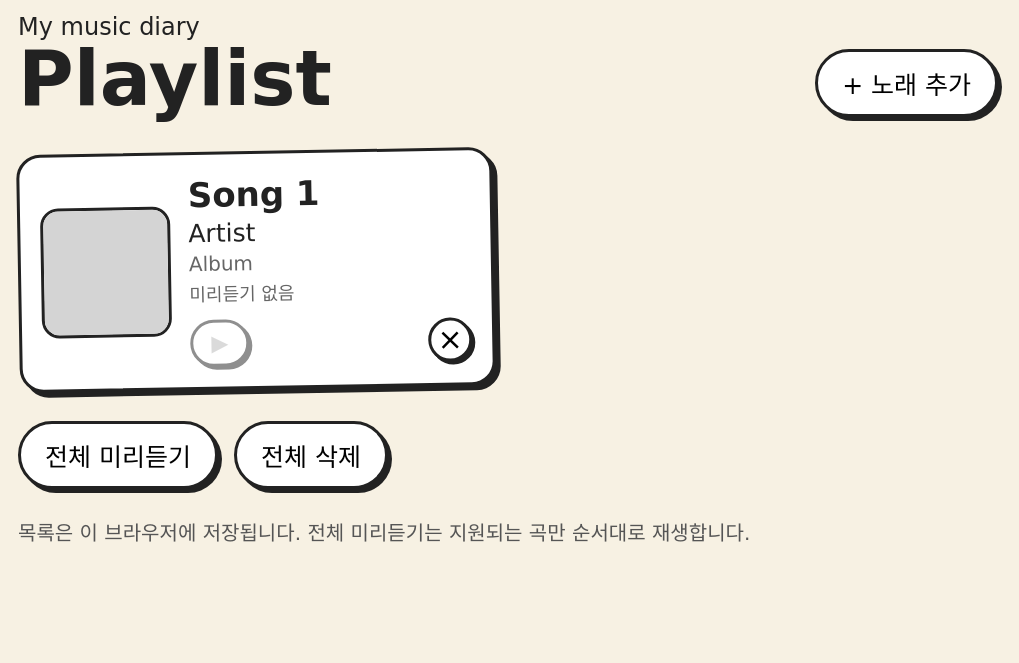
Test: no preview disables individual playback
The width and height of the screenshot is (1019, 663).
Expected: the button named "Song 1 미리듣기 없음" is disabled, top-left (190, 319), bottom-right (250, 367)
What coordinates should you click on to do the following:
click the button "전체 미리듣기"
I would click on:
 (118, 455)
Its box is top-left (18, 421), bottom-right (218, 489).
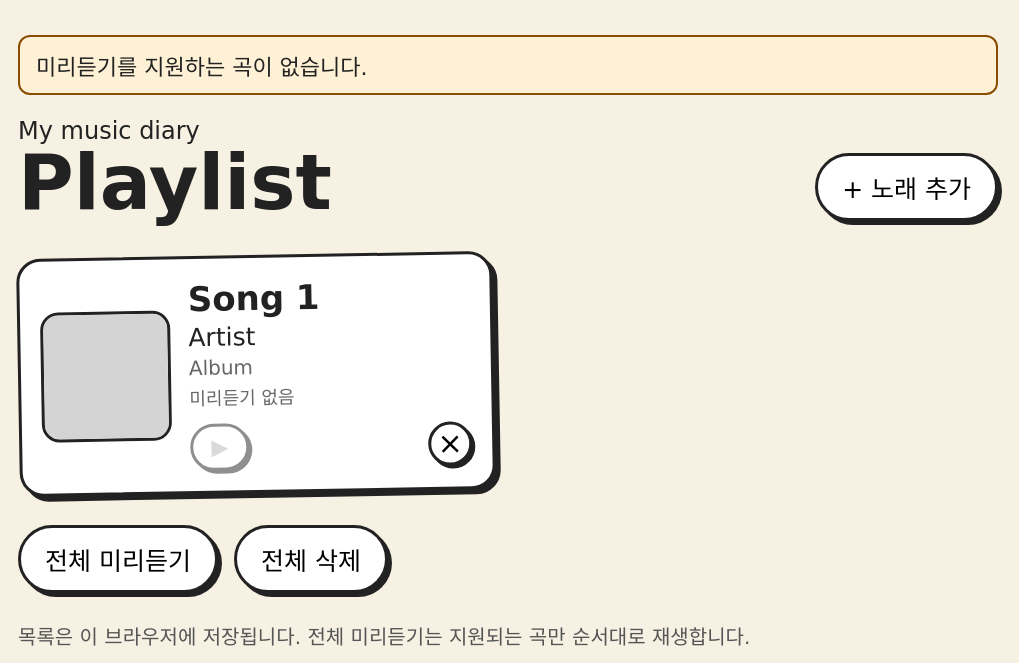
Expected: the message "미리듣기를 지원하는 곡이 없습니다." is shown, top-left (18, 35), bottom-right (998, 95)
